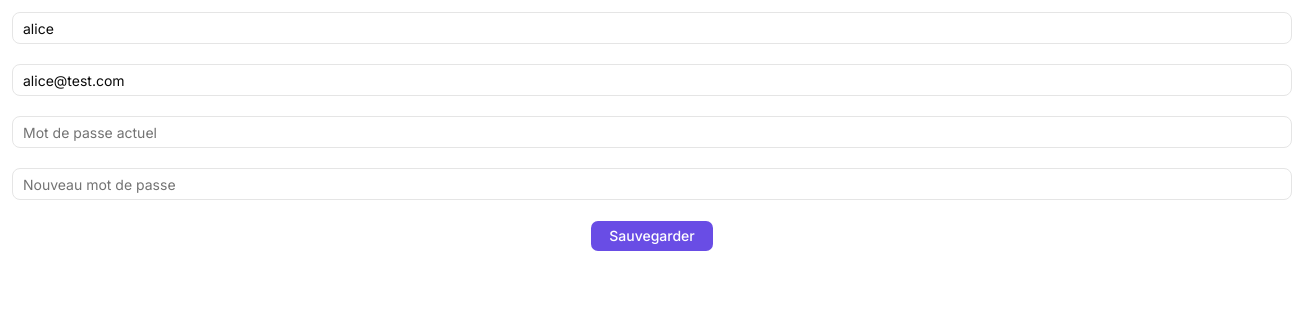
Scenario: ProfileForm › shows the error returned by the action and keeps the fields
Replace the text in the 1st field named "Nom d'utilisateur" with "bob". click: (652, 28)
box: [12,12,1292,44]
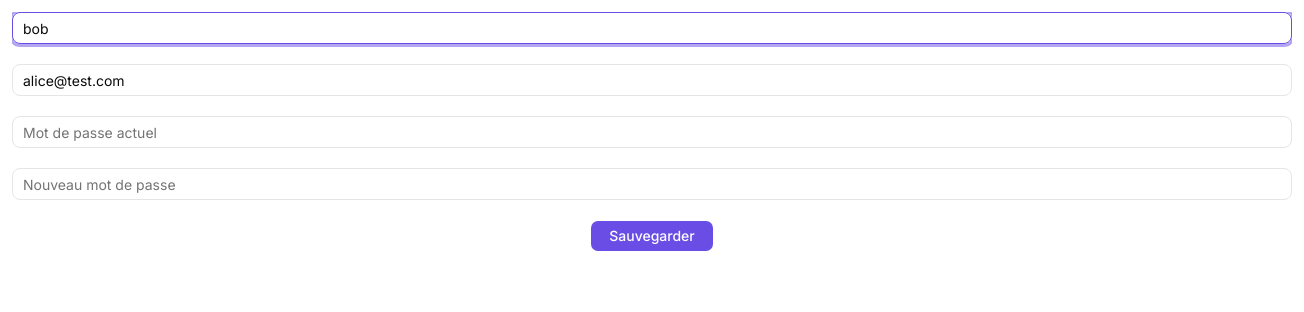
Click the button "Sauvegarder". click: (652, 236)
box: [590,220,714,252]
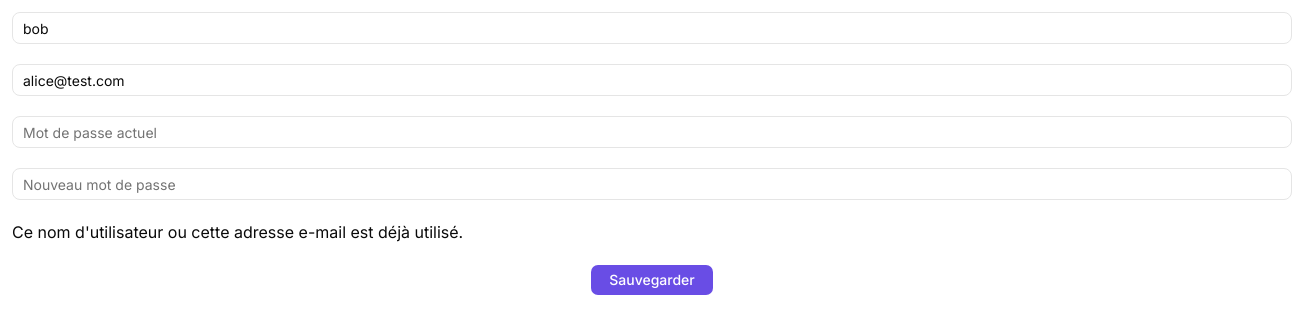
Check: the message reads "Ce nom d'utilisateur ou cette adresse e-mail est déjà utilisé.", box [12,222,463,242]
